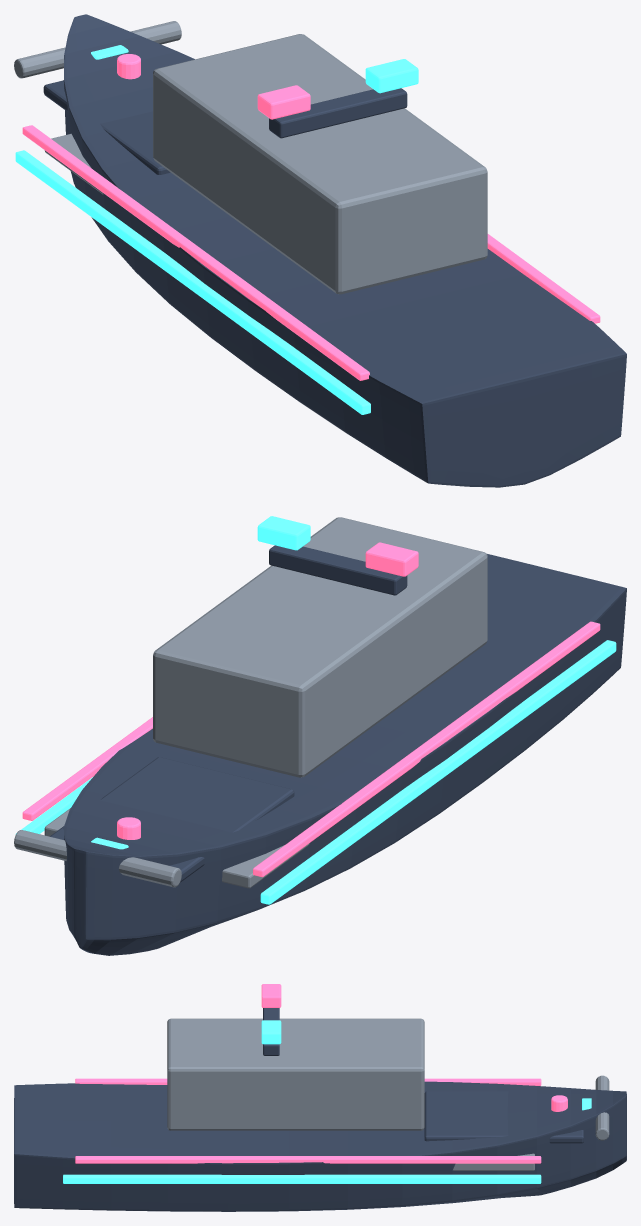
The model's file is police_interceptor.glb.
3 views of the same model, one above another, from view 1: azimuth 30°, elevation 25°; view 2: azimuth 150°, elevation 25°; view 3: azimuth 270°, elevation 25° (orthographic). The views are drawn at different scales.
Visible parts, largest first — view 1: PoliceInterceptor_Hull, InterceptorCabin, PoliceInterceptor_NeonRailL, PoliceInterceptor_GunwaleTrimL, LightbarMast, PoliceInterceptor_ForeDeck, BullBar, PoliceInterceptor_GunwaleTrimR, SirenLampRed, SirenLampBlue; view 2: PoliceInterceptor_Hull, InterceptorCabin, PoliceInterceptor_ForeDeck, PoliceInterceptor_NeonRailL, PoliceInterceptor_GunwaleTrimL, LightbarMast, BullBar, PoliceInterceptor_GunwaleTrimR, SirenLampRed, SirenLampBlue, PoliceInterceptor_MainDeck, PoliceInterceptor_NeonRailR; view 3: PoliceInterceptor_Hull, InterceptorCabin, PoliceInterceptor_NeonRailR, PoliceInterceptor_ForeDeck, PoliceInterceptor_GunwaleTrimR, PoliceInterceptor_GunwaleTrimL, PoliceInterceptor_MainDeck, BullBar, SirenLampBlue, SirenLampRed, LightbarMast.
Boxes of the visible parts, x1,y1,x2,y2 form: PoliceInterceptor_Hull: (63,14,626,487); InterceptorCabin: (153,34,487,294); PoliceInterceptor_NeonRailL: (15,150,370,414); PoliceInterceptor_GunwaleTrimL: (22,125,369,380); LightbarMast: (269,88,407,138); PoliceInterceptor_ForeDeck: (43,80,170,174); BullBar: (14,21,181,78); PoliceInterceptor_GunwaleTrimR: (487,234,600,323); SirenLampRed: (257,85,310,119); SirenLampBlue: (365,59,418,93); PoliceInterceptor_Hull: (63,554,626,955); InterceptorCabin: (153,517,487,777); PoliceInterceptor_ForeDeck: (50,757,294,882); PoliceInterceptor_NeonRailL: (260,640,616,904); PoliceInterceptor_GunwaleTrimL: (253,621,600,877); LightbarMast: (269,545,407,595); BullBar: (14,830,181,887); PoliceInterceptor_GunwaleTrimR: (22,717,152,820); SirenLampRed: (365,542,418,576); SirenLampBlue: (257,516,310,550); PoliceInterceptor_MainDeck: (44,808,309,888); PoliceInterceptor_NeonRailR: (15,777,92,834); PoliceInterceptor_Hull: (14,1081,626,1211); InterceptorCabin: (167,1018,424,1130); PoliceInterceptor_NeonRailR: (63,1174,541,1183); PoliceInterceptor_ForeDeck: (424,1091,583,1143); PoliceInterceptor_GunwaleTrimR: (75,1156,541,1163); PoliceInterceptor_GunwaleTrimL: (75,1078,541,1085); PoliceInterceptor_MainDeck: (453,1153,534,1170); BullBar: (595,1075,609,1140); SirenLampBlue: (261,1020,281,1044); SirenLampRed: (261,984,281,1007); LightbarMast: (263,1008,279,1055).
Size of the model in its own units: 2.91 by 3.09 by 8.8.
